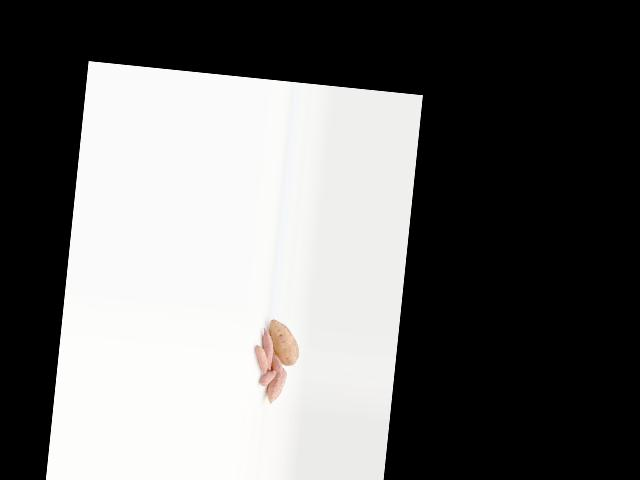sweet_potato: (265, 367, 287, 406)
